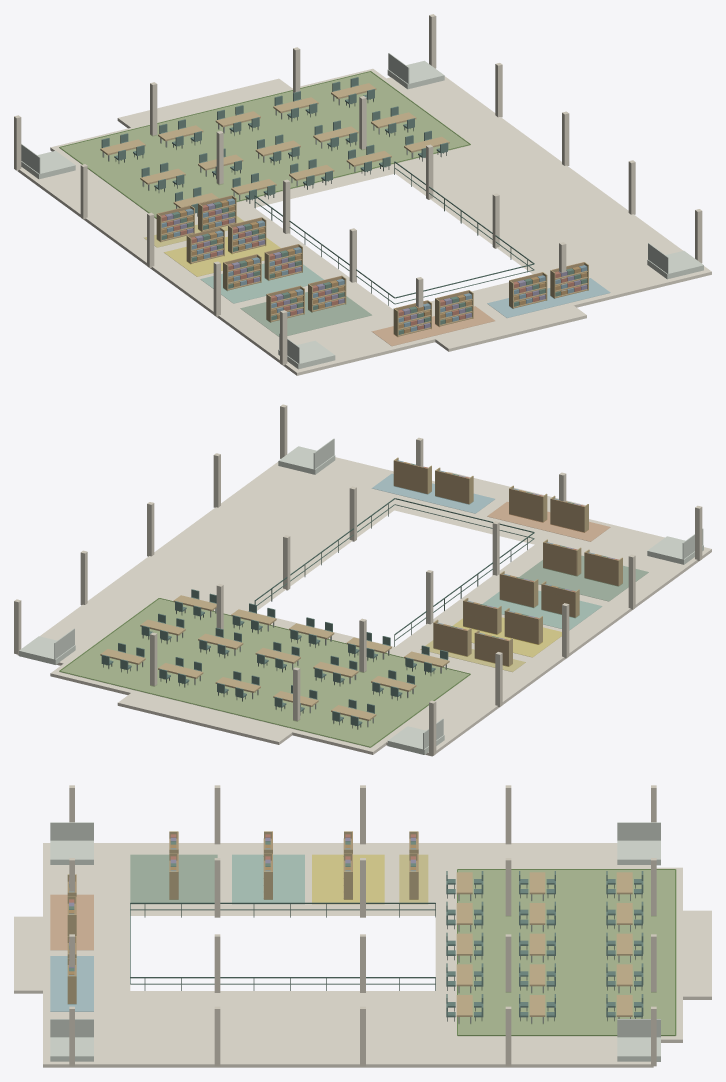
The model's file is 图书馆_5楼_试点常态.glb.
3 views of the same model, one above another, from view 1: azimuth 30°, elevation 25°; view 2: azimuth 150°, elevation 25°; view 3: azimuth 270°, elevation 25° (orthographic). The views are drawn at different scales.
Parts seen in each view (by area): view 1: guide_outline_floor_slab, guide_function_tint (×6), proposed_candidate_zone, corner_service_room (×4); view 2: guide_outline_floor_slab, guide_function_tint (×6), proposed_candidate_zone, rack_back (×12), corner_service_room (×4); view 3: guide_outline_floor_slab, guide_function_tint (×7), proposed_candidate_zone, corner_service_room (×4), service_partition (×4), atrium_rail_top (×2), atrium_rail_lower (×2).
Part boxes in pixels (x1=…): guide_outline_floor_slab: x1=17, y1=68, x2=711, y2=375; guide_function_tint (×6): x1=61, y1=72, x2=610, y2=346; proposed_candidate_zone: x1=61, y1=72, x2=468, y2=216; corner_service_room (×4): x1=21, y1=60, x2=703, y2=369; guide_outline_floor_slab: x1=18, y1=457, x2=711, y2=756; guide_function_tint (×6): x1=60, y1=473, x2=648, y2=747; proposed_candidate_zone: x1=61, y1=599, x2=468, y2=746; rack_back (×12): x1=394, y1=460, x2=618, y2=666; corner_service_room (×4): x1=19, y1=446, x2=703, y2=754; guide_outline_floor_slab: x1=14, y1=843, x2=711, y2=1067; guide_function_tint (×7): x1=50, y1=854, x2=674, y2=1036; proposed_candidate_zone: x1=458, y1=870, x2=674, y2=1034; corner_service_room (×4): x1=50, y1=840, x2=660, y2=1061; service_partition (×4): x1=50, y1=822, x2=660, y2=1037; atrium_rail_top (×2): x1=130, y1=902, x2=435, y2=978; atrium_rail_lower (×2): x1=130, y1=909, x2=435, y2=984.
Size of the model in its own units: 36.4 by 4.52 by 48.
